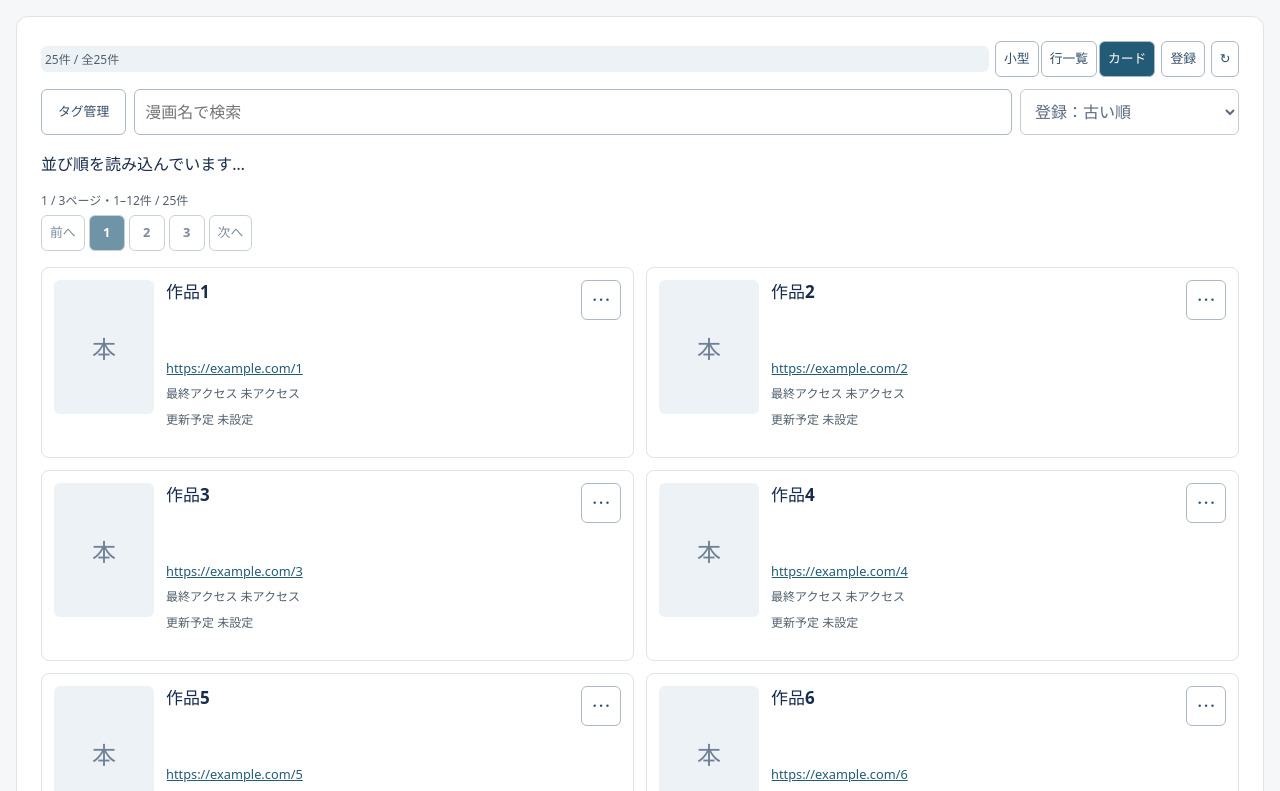
Test case: 登録応答と初期並び順の復元が前後しても復元後の作品ページへ移動する（復元先行=true）
The width and height of the screenshot is (1280, 791).
Click the button with aria-label "作品を登録". click: (1183, 59)
box: 1161,41 -> 1205,77
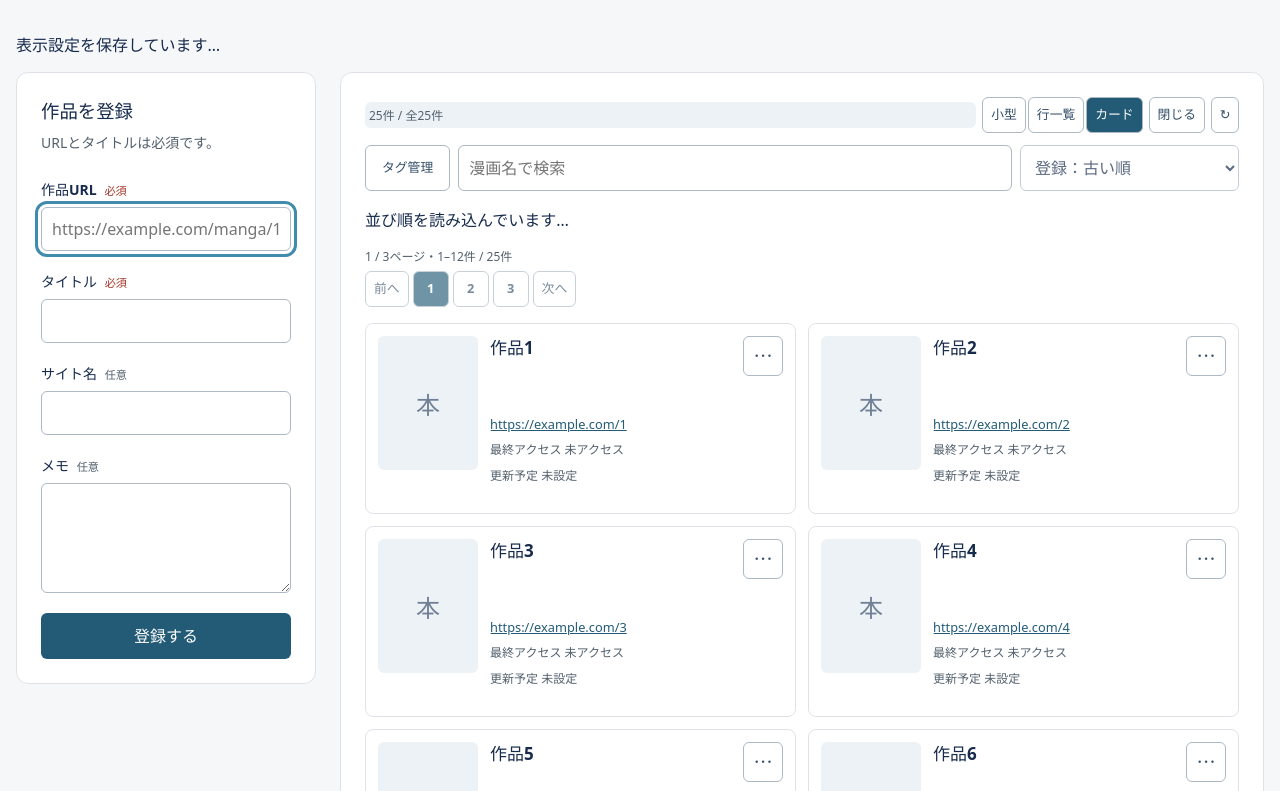
Type "https://example.com/new" into the field labelled "作品URL 必須". click: (166, 229)
box: 41,207 -> 291,251
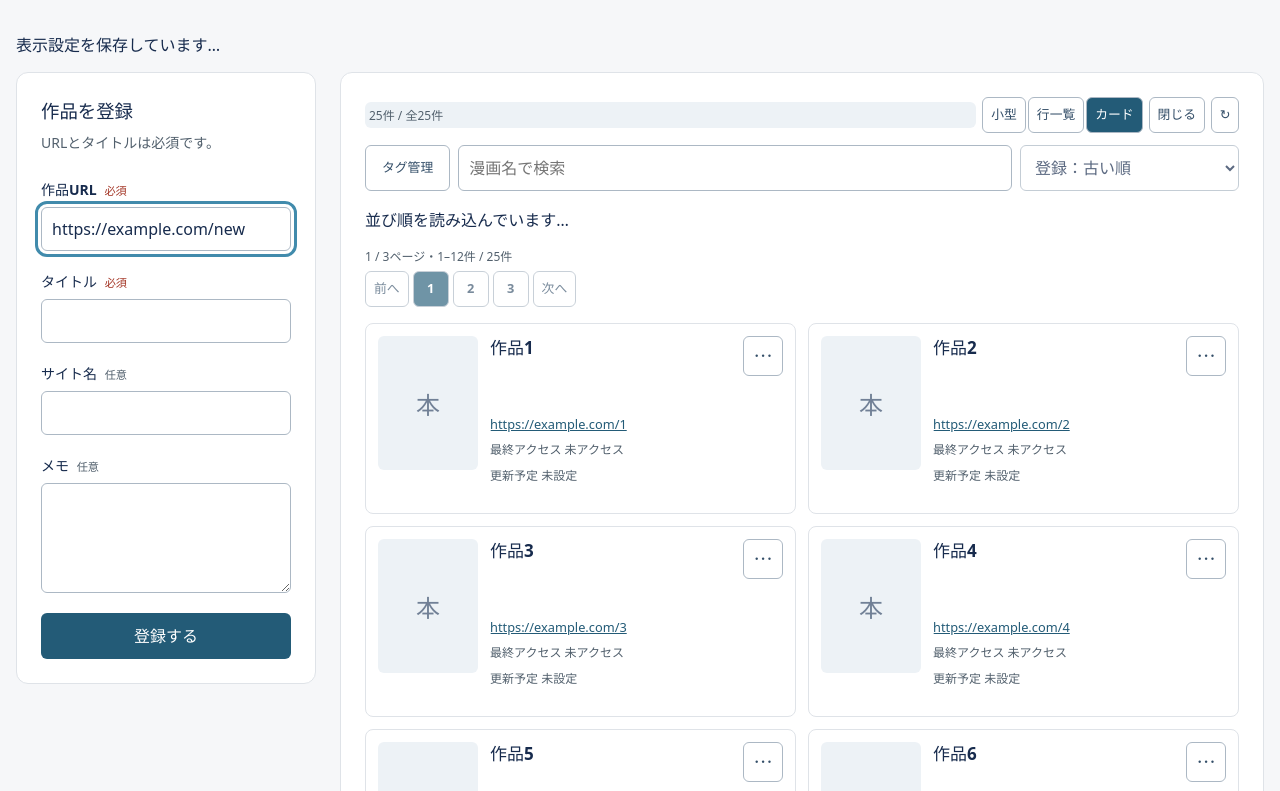
Type "作品26" into the field labelled "タイトル 必須". click: (166, 321)
box: 41,299 -> 291,343
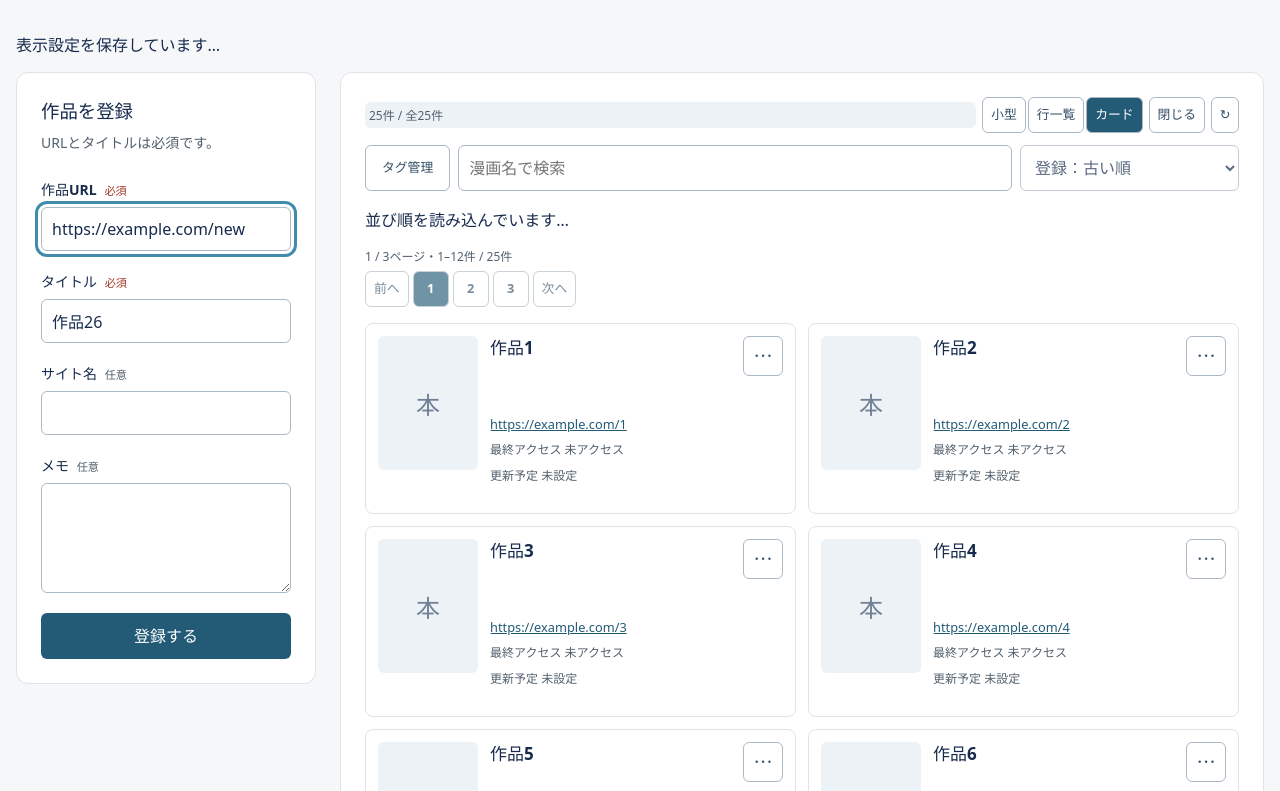
Click the button "登録する". click: (166, 636)
box: 41,613 -> 291,659
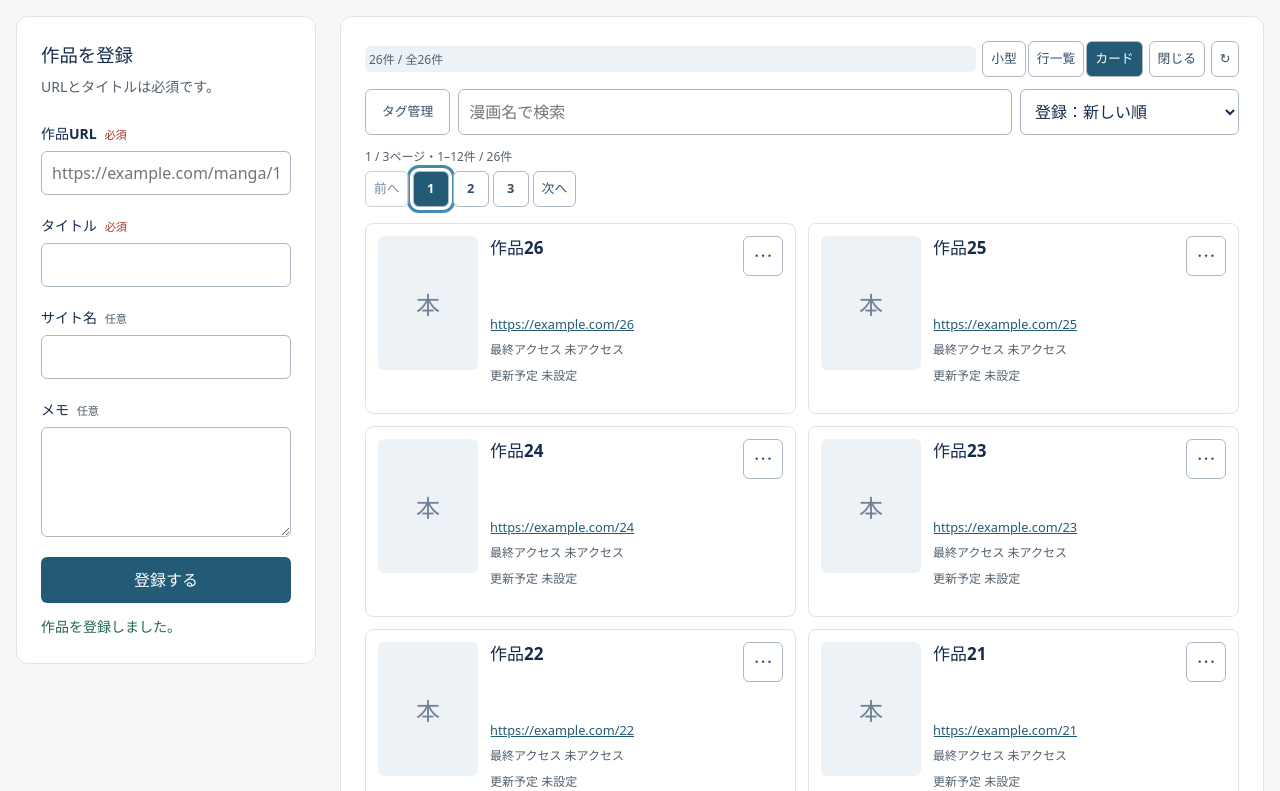
Now the heading "作品26" is shown, box 490,236 -> 544,259
